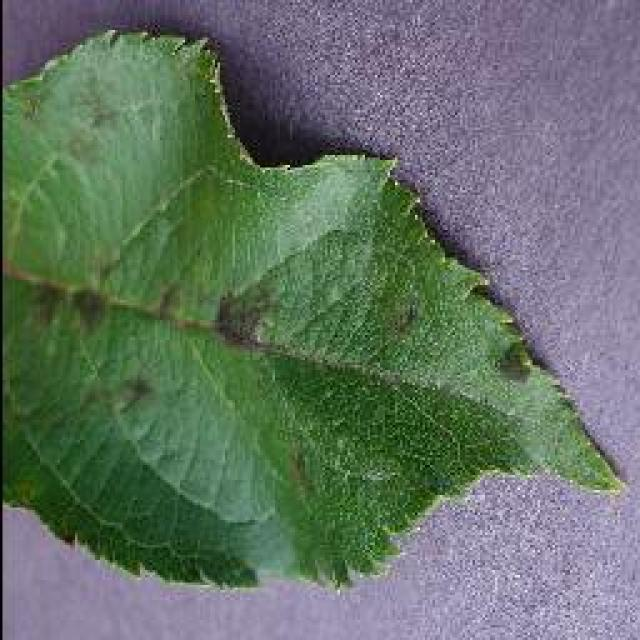apple scab disease: (0, 22, 625, 592)
